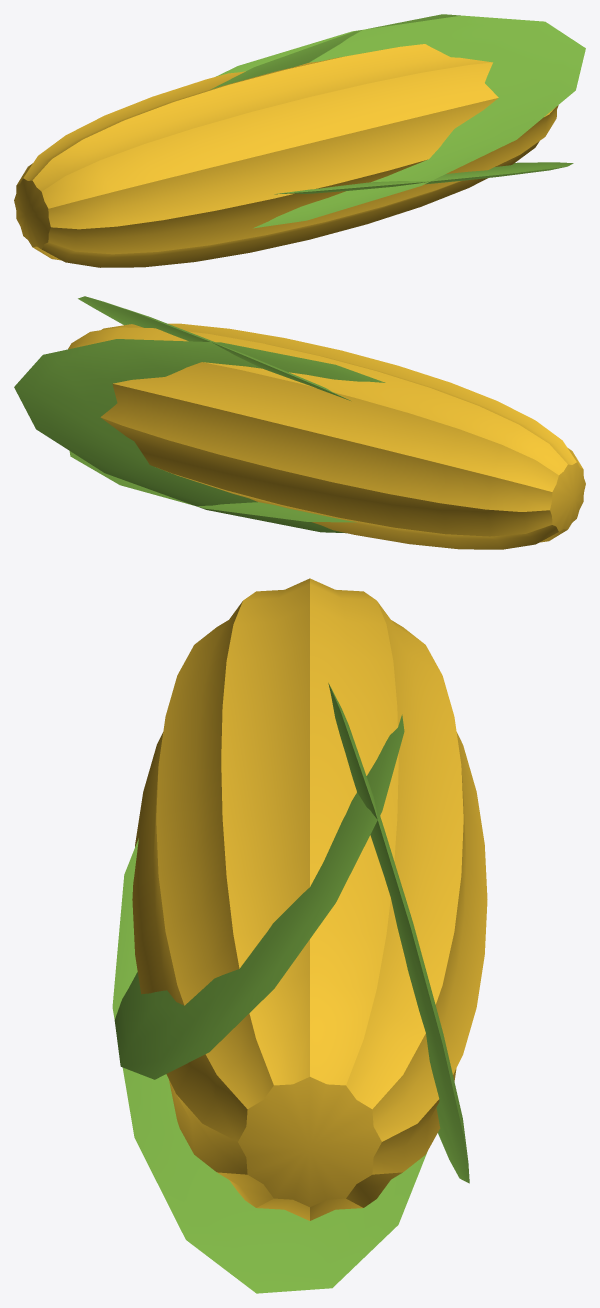
Rendered from Corn.fbx.
3 views of the same model, one above another, from view 1: azimuth 30°, elevation 25°; view 2: azimuth 150°, elevation 25°; view 3: azimuth 270°, elevation 25° (orthographic). The views are drawn at different scales.
Parts seen in each view (by area): view 1: Corn; view 2: Corn; view 3: Corn.
Boxes of the visible parts, x1,y1,x2,y2 form: Corn: (14,14,585,267); Corn: (14,296,585,549); Corn: (112,578,487,1293).
Size of the model in its own units: 0.1845 by 0.0561 by 0.0574.
